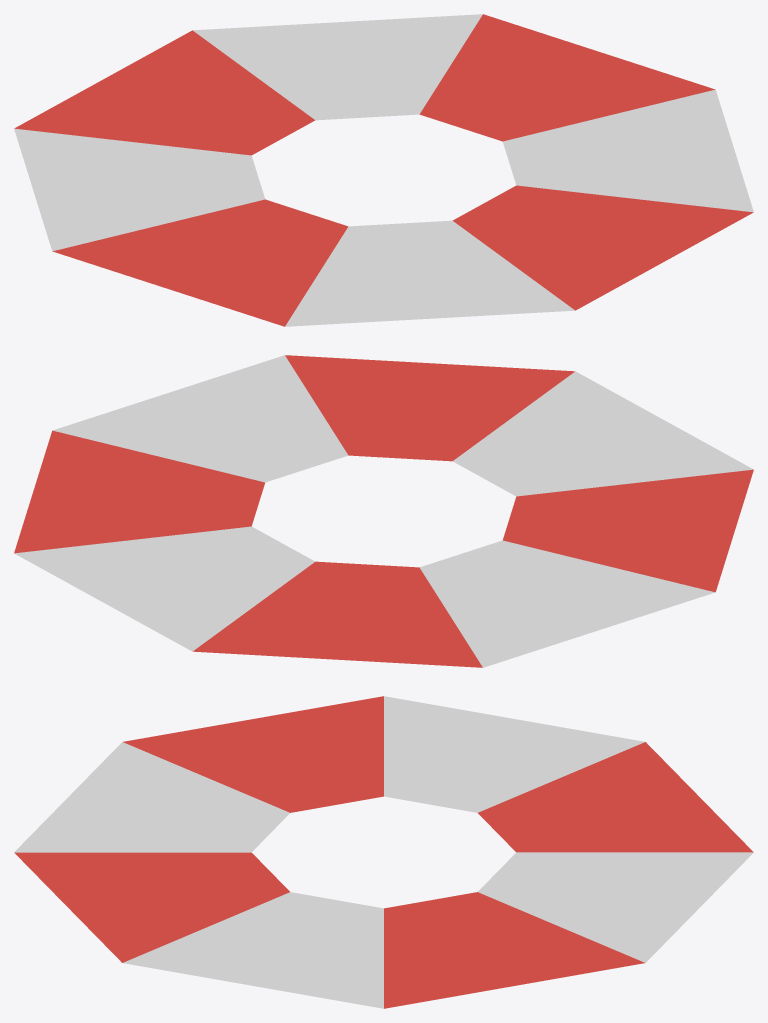
File: swimring.glb
The picture shows the model from 3 angles, top to bottom: view 1: azimuth 30°, elevation 25°; view 2: azimuth 150°, elevation 25°; view 3: azimuth 270°, elevation 25°; orthographic projection. The views are drawn at different scales.
Parts seen in each view (by area): view 1: circle; view 2: circle; view 3: circle.
Part boxes in pixels (left/top/right/bottom): circle: left=14, top=14, right=753, bottom=326; circle: left=14, top=355, right=753, bottom=667; circle: left=14, top=696, right=753, bottom=1008.
Size of the model in its own units: 2 by 0 by 2.
